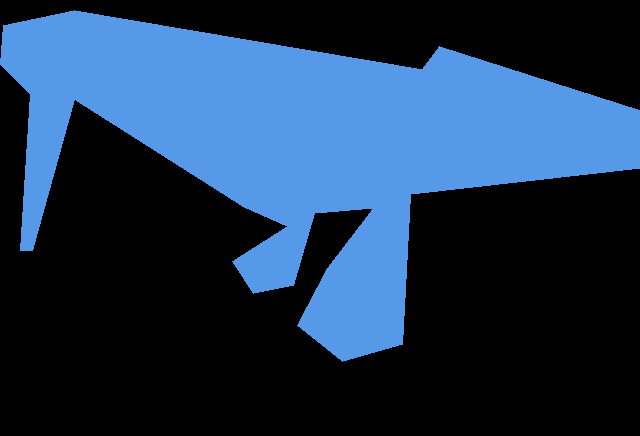Airplane: (0, 10, 640, 361)
